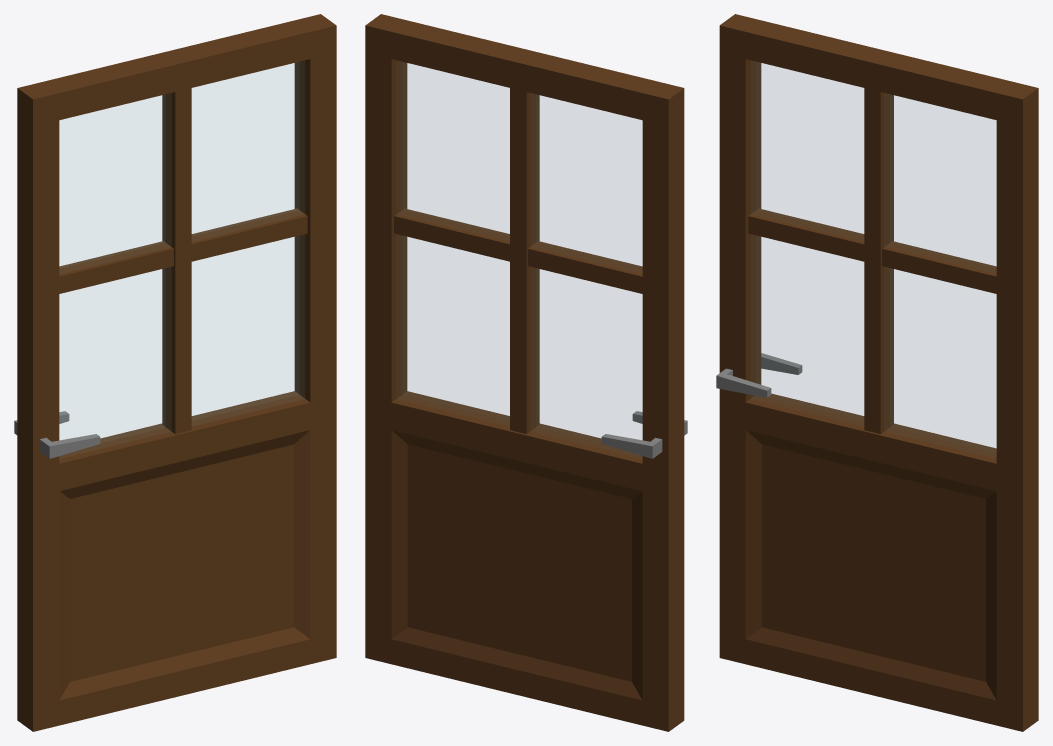
Rendered from SM_Buildings_Hotel_01_Door.fbx.
The picture shows the model from 3 angles, left to right: view 1: azimuth 30°, elevation 25°; view 2: azimuth 150°, elevation 25°; view 3: azimuth 330°, elevation 25°; orthographic projection.
Visible parts, largest first — view 1: SM_Buildings_Hotel_01_Door; view 2: SM_Buildings_Hotel_01_Door; view 3: SM_Buildings_Hotel_01_Door.
Part boxes in pixels (x1,y1,x2,y2): SM_Buildings_Hotel_01_Door: (14,14,336,731); SM_Buildings_Hotel_01_Door: (365,14,687,731); SM_Buildings_Hotel_01_Door: (716,14,1038,731).
Bounding box in the file's own units: 1.02 × 2.03 × 0.2037.
